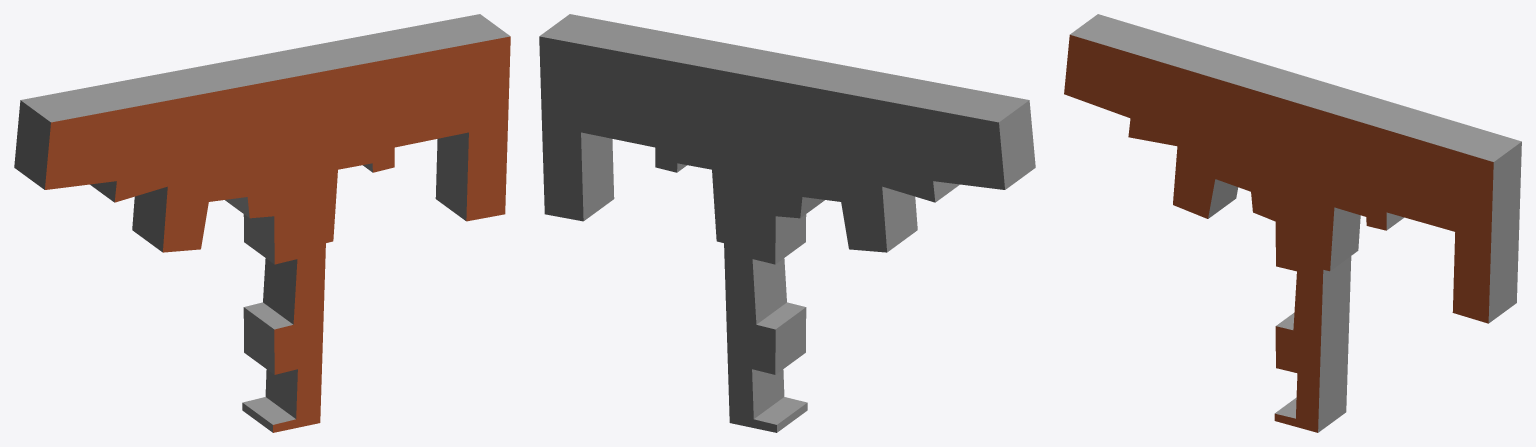
Rendered from construction_2721_assumed_A_Casa_h6m.obj.
The picture shows the model from 3 angles, left to right: view 1: azimuth 30°, elevation 25°; view 2: azimuth 150°, elevation 25°; view 3: azimuth 330°, elevation 25°; orthographic projection. The views are drawn at different scales.
Parts seen in each view (by area): view 1: construction_2721_assumed_A_Casa; view 2: construction_2721_assumed_A_Casa; view 3: construction_2721_assumed_A_Casa.
Boxes of the visible parts, x1,y1,x2,y2 form: construction_2721_assumed_A_Casa: (14,14,510,432); construction_2721_assumed_A_Casa: (539,14,1035,432); construction_2721_assumed_A_Casa: (1064,14,1521,432).
Bounding box in the file's own units: 52.7 × 39.58 × 6.
